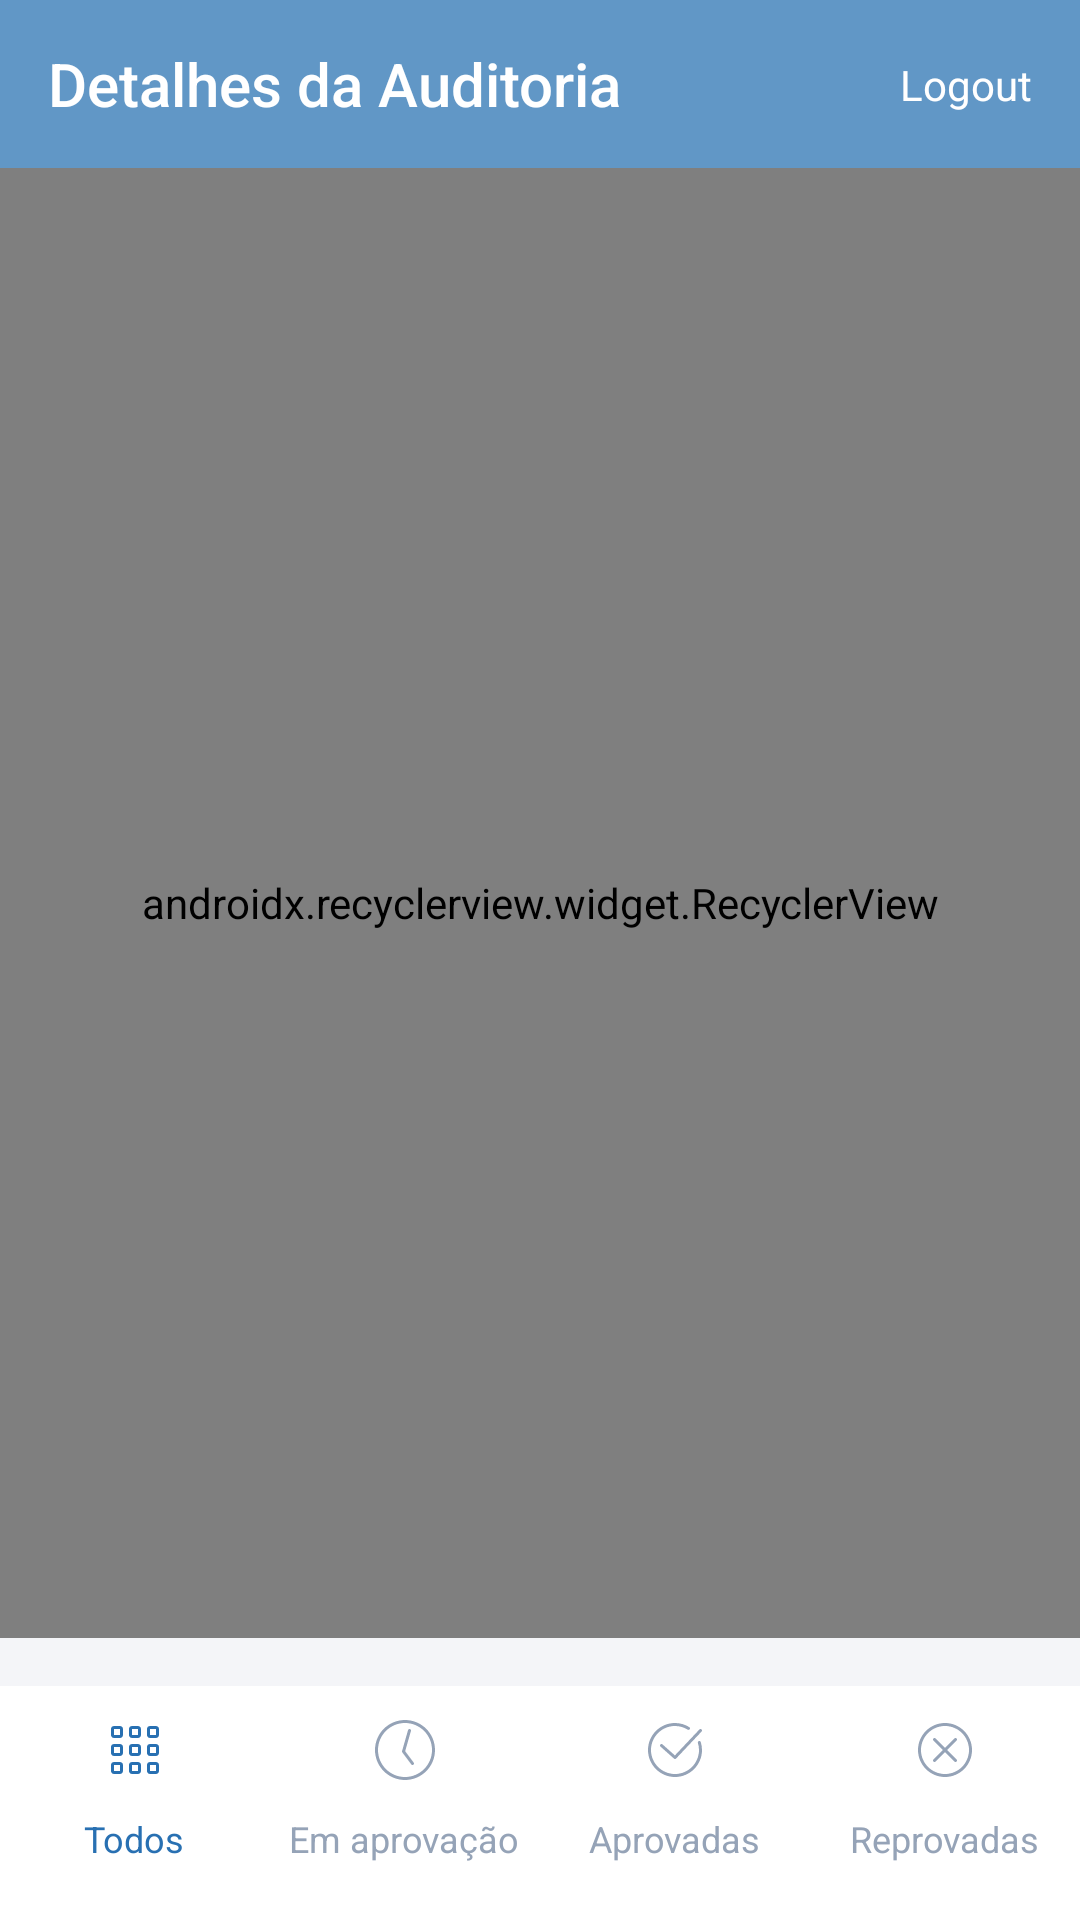

Where icons sit on this 1080 x 1920 app screen, as box=[x1, y1, x2, y2]:
Auditorias em Análise: box=[375, 1720, 435, 1780]
Todas as Auditorias: box=[111, 1726, 159, 1774]
